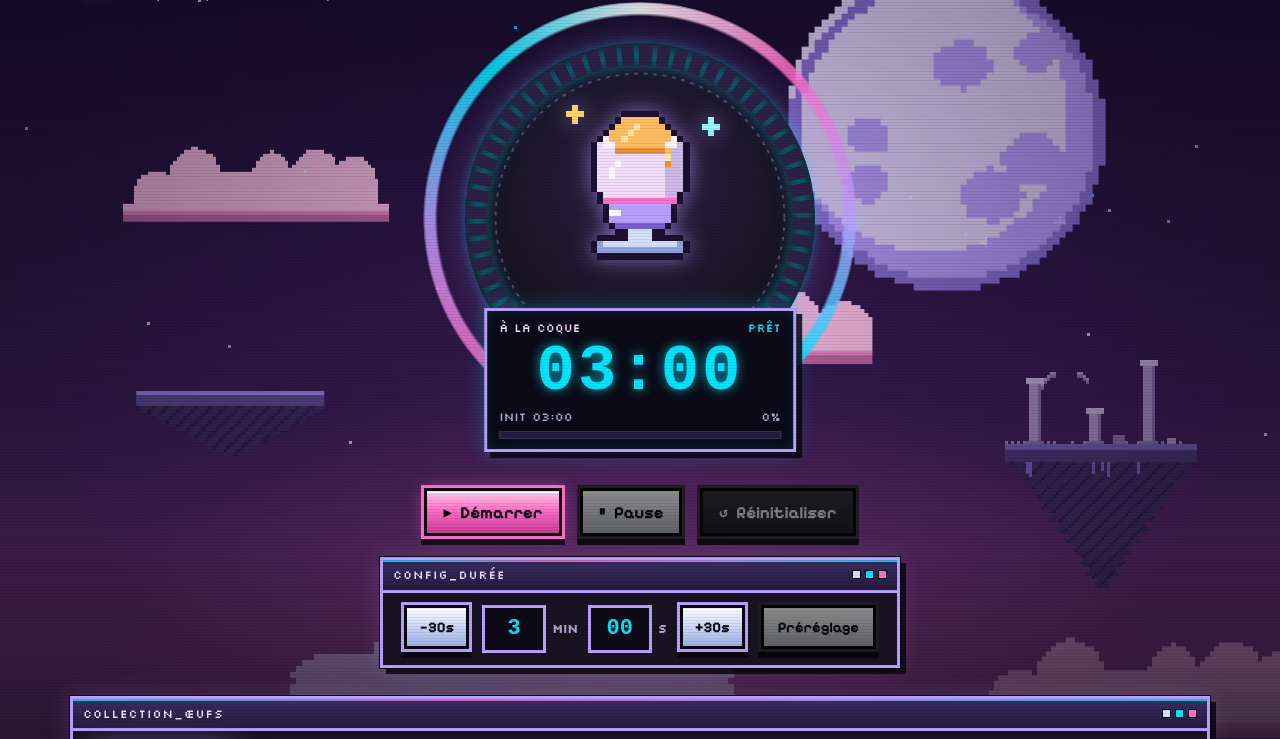
Scenario: durées personnalisées et préréglages › réglage manuel, marqueur « * » et persistance
This screenshot has width=1280, height=739.
Replace the text in the field labelled "min" with "2" at {"x": 514, "y": 629}, box [482,605,546,653]
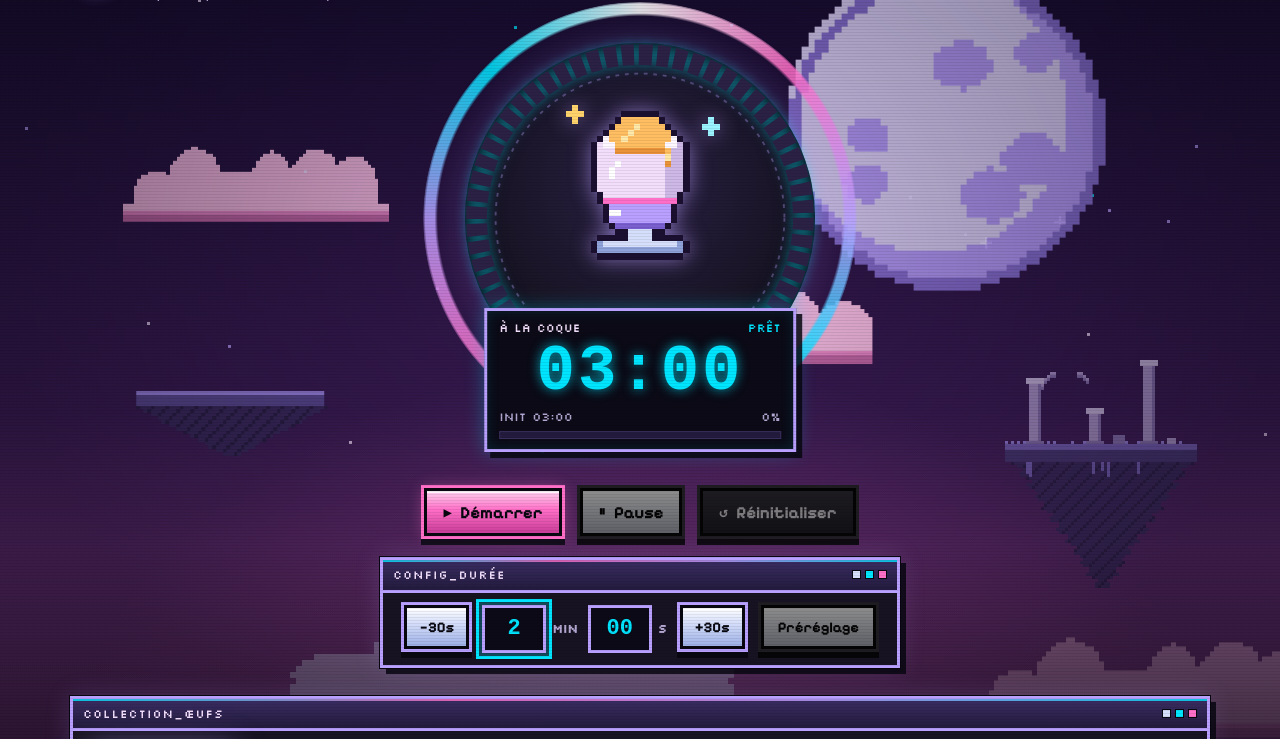
Replace the text in the field named "Secondes" with "30" at {"x": 620, "y": 629}, box [588,605,652,653]
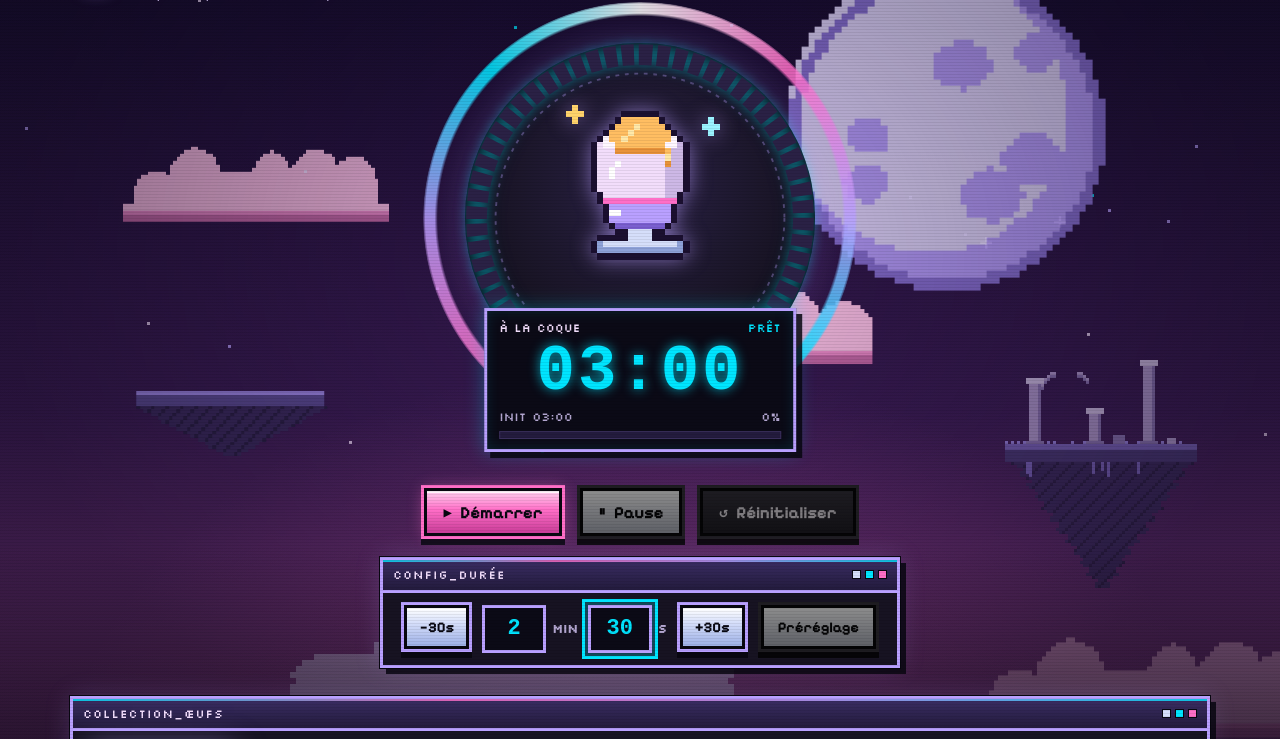
Press Enter
(page scrolled)
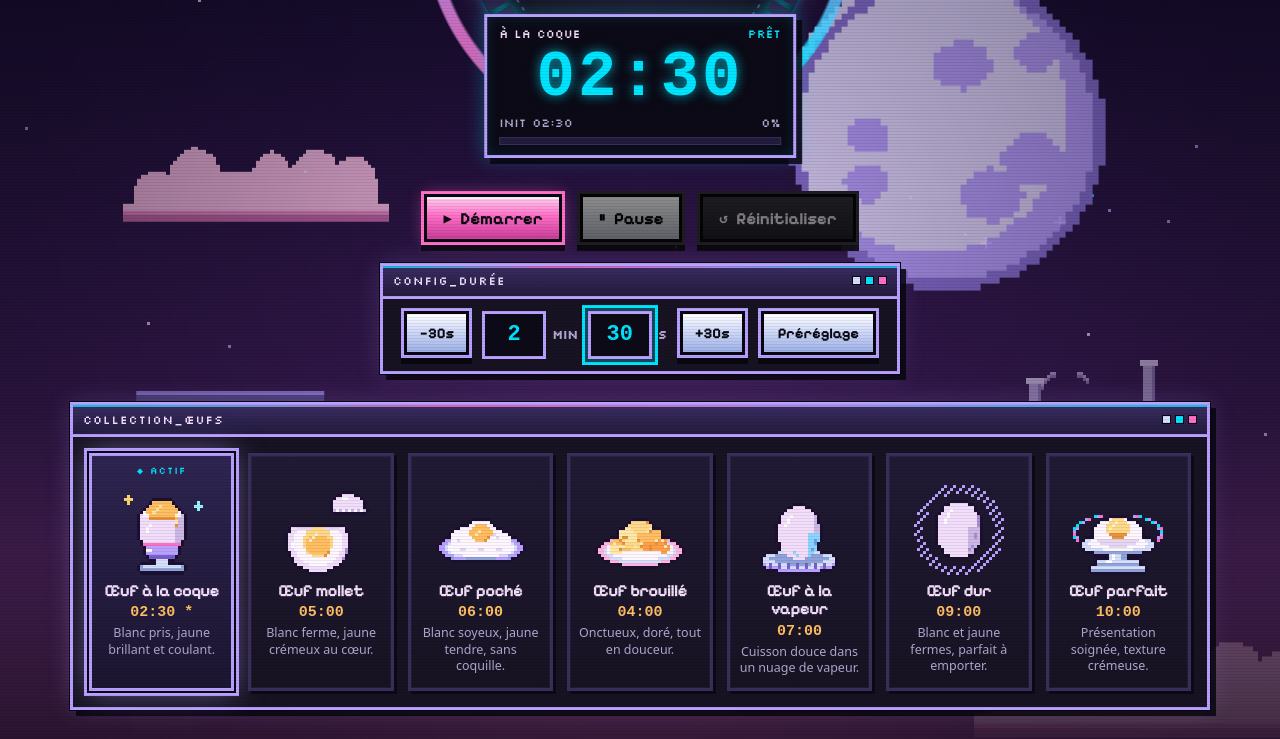
Now the text "02:30 *" is shown, box [130,604,193,622]
